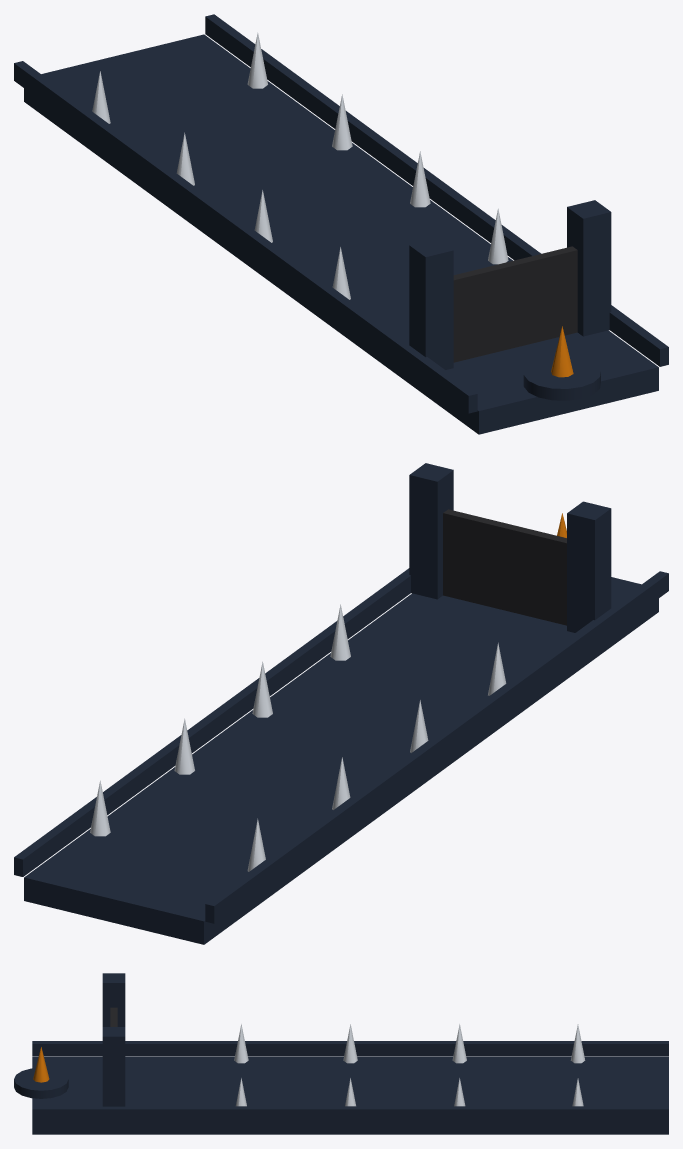
File: evt_01.glb
3 views of the same model, one above another, from view 1: azimuth 30°, elevation 25°; view 2: azimuth 150°, elevation 25°; view 3: azimuth 270°, elevation 25° (orthographic). The views are drawn at different scales.
Parts seen in each view (by area): view 1: scenario_tile_box_floor, EVT_01, blood_castle_archangels, blood_castle_sacred_altar; view 2: scenario_tile_box_floor, EVT_01, blood_castle_archangels; view 3: scenario_tile_box_floor, EVT_01, blood_castle_archangels, blood_castle_sacred_altar.
Boxes of the visible parts, bbox=[...] form: scenario_tile_box_floor: bbox=[24, 34, 658, 434]; EVT_01: bbox=[14, 14, 668, 413]; blood_castle_archangels: bbox=[92, 32, 508, 299]; blood_castle_sacred_altar: bbox=[523, 356, 600, 400]; scenario_tile_box_floor: bbox=[24, 577, 658, 944]; EVT_01: bbox=[14, 463, 668, 923]; blood_castle_archangels: bbox=[90, 604, 506, 871]; scenario_tile_box_floor: bbox=[32, 1056, 668, 1134]; EVT_01: bbox=[32, 973, 668, 1121]; blood_castle_archangels: bbox=[234, 1024, 585, 1106]; blood_castle_sacred_altar: bbox=[14, 1068, 68, 1098].
Size of the model in its own units: 17.8 by 12 by 72.
